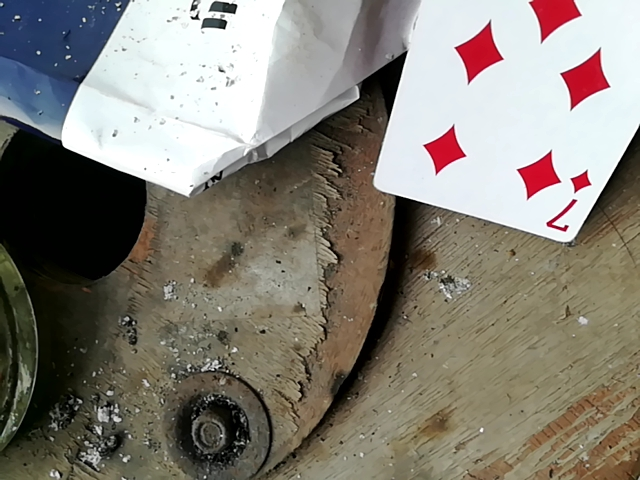fk 7: (366, 1, 640, 244)
